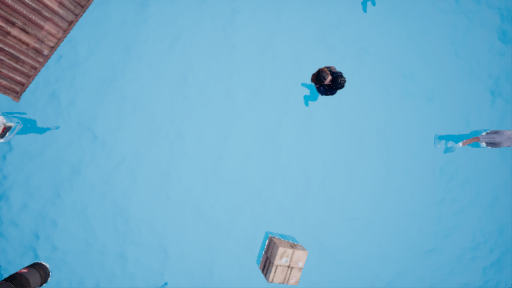person: (441, 122, 512, 163), (290, 68, 348, 115)
